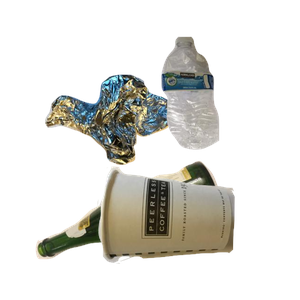glass: (33, 158, 246, 300)
metal: (42, 72, 239, 229)
plastic: (159, 34, 300, 176)
trash: (95, 164, 300, 300)
